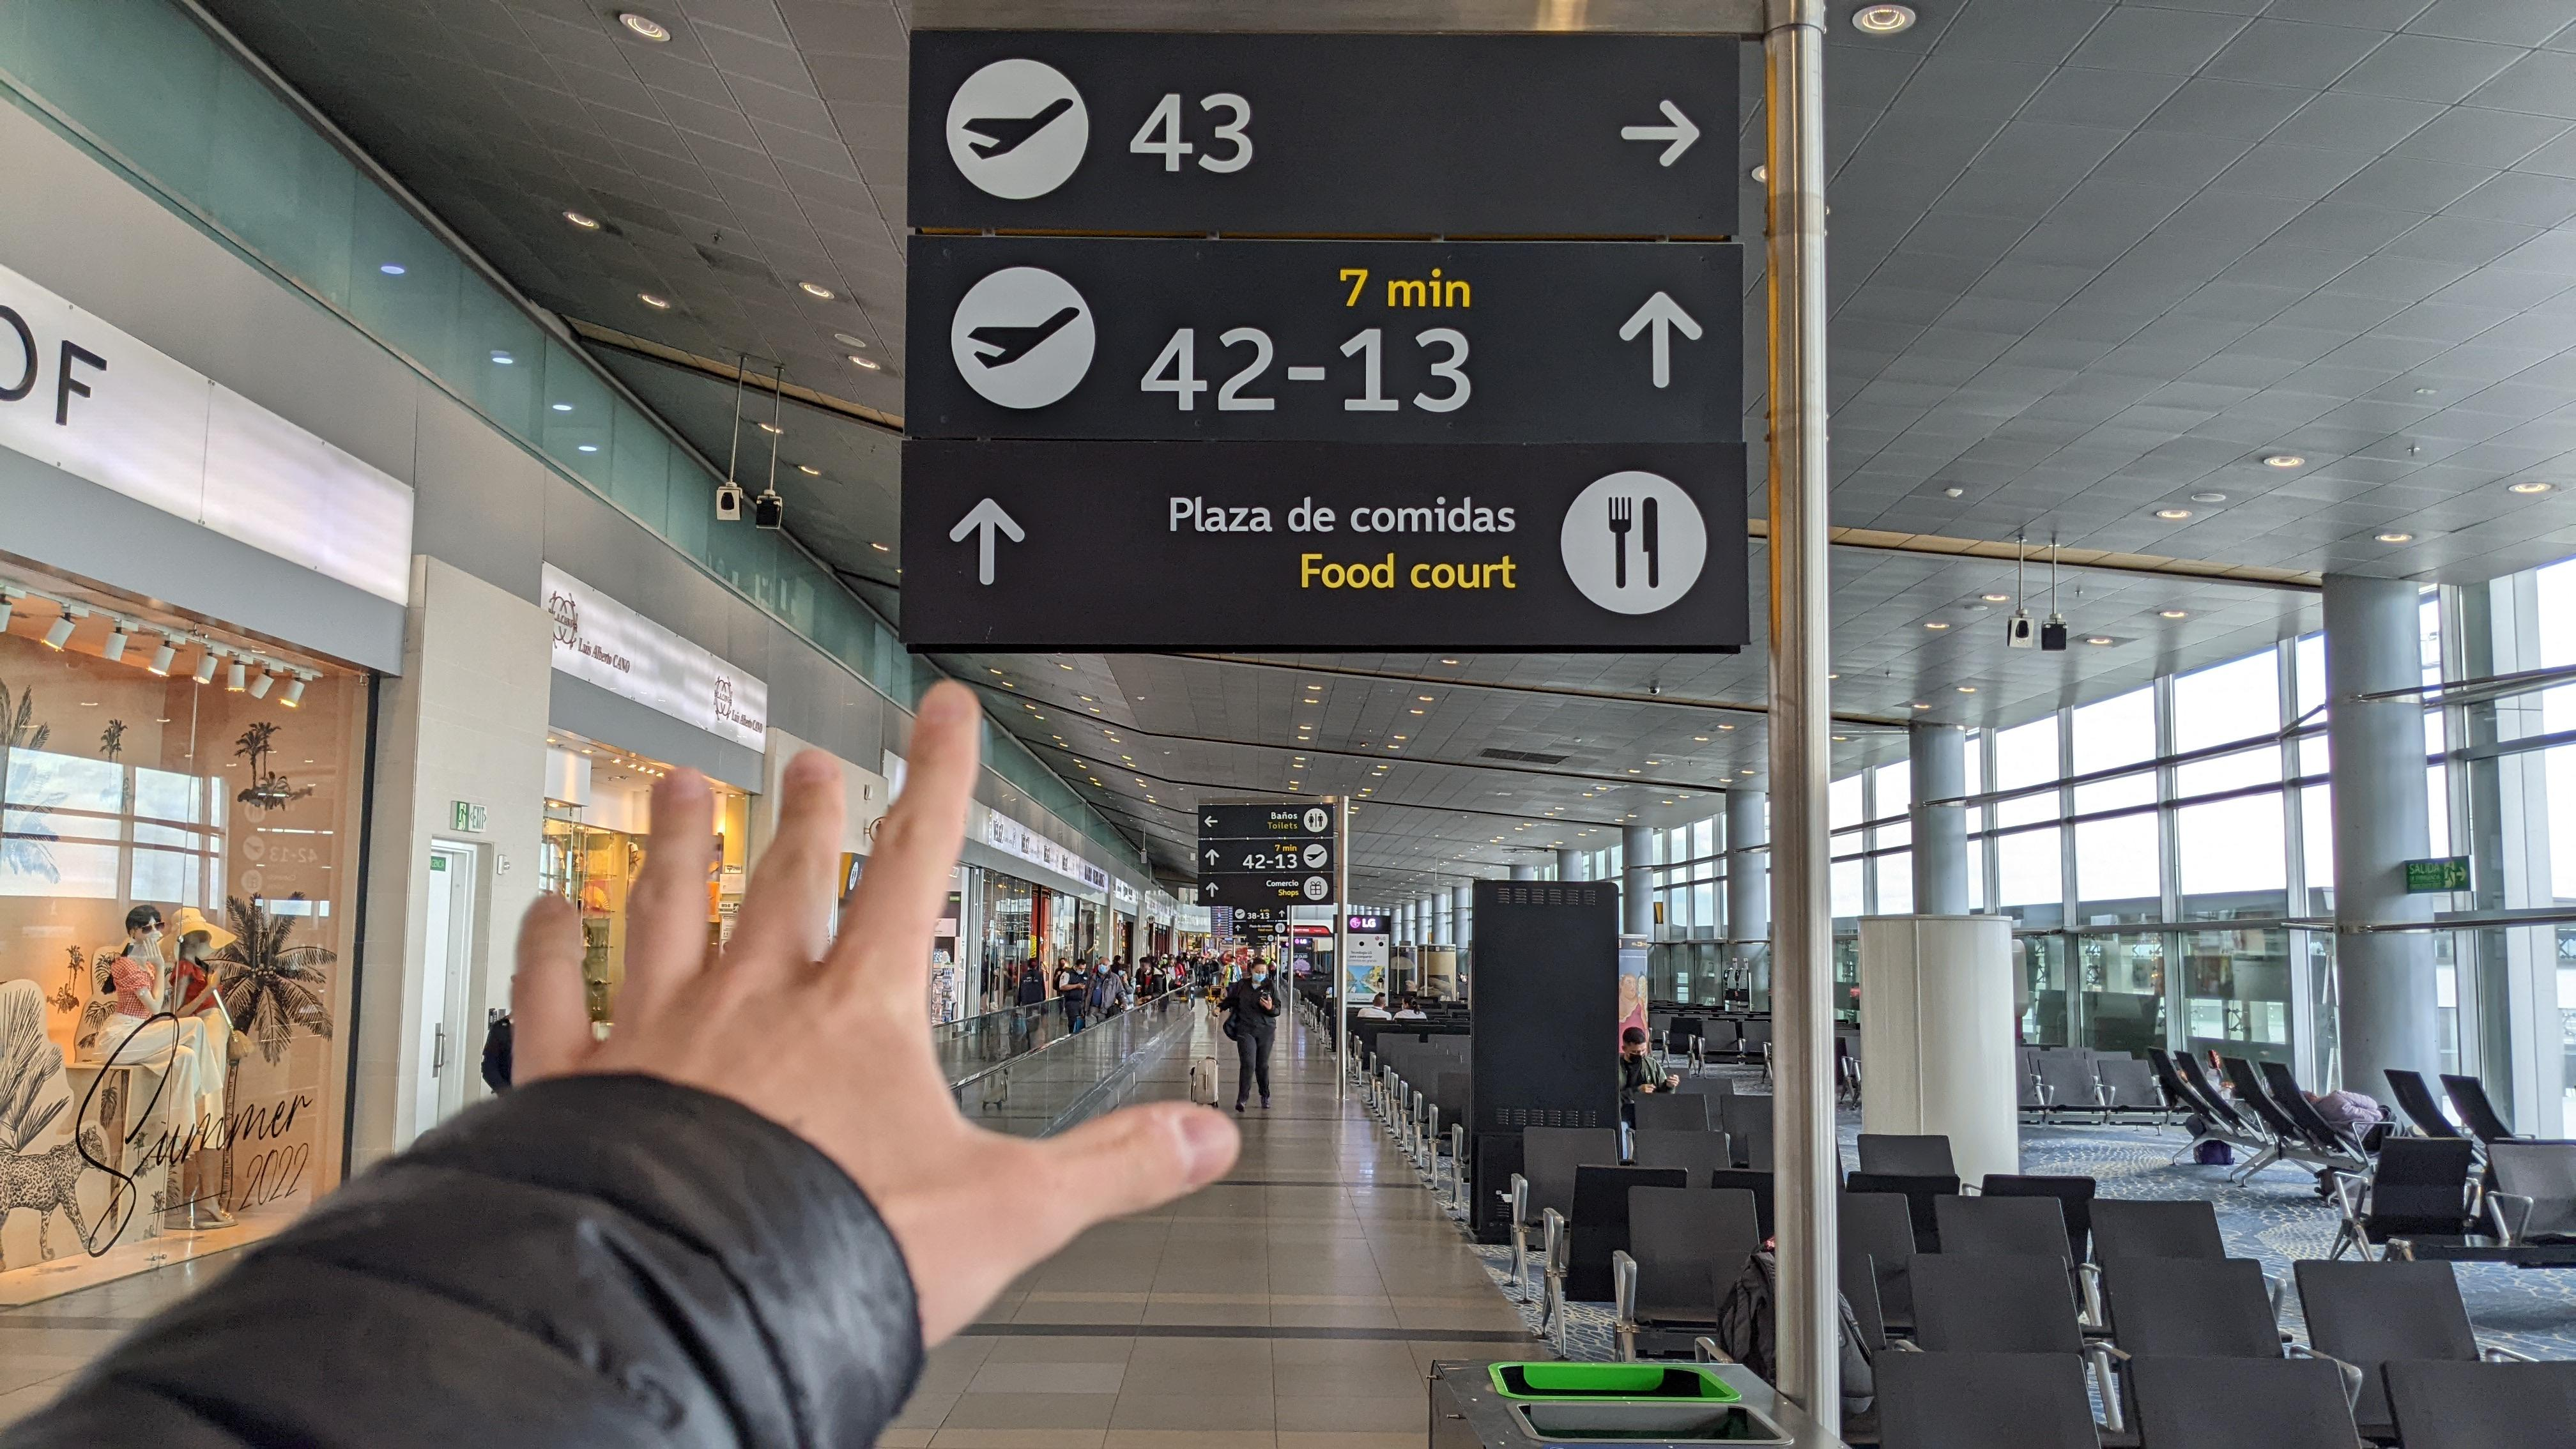airplane symbol: (959, 90, 1077, 163), (968, 301, 1083, 372), (1306, 849, 1325, 862), (1235, 911, 1244, 916)
bathrooms: (1307, 812, 1323, 828)
emergency exit: (2443, 862, 2456, 888), (458, 801, 467, 830)
emergency right arrow: (2456, 867, 2468, 881)
left arrow: (1203, 816, 1219, 828)
restaurants: (1603, 490, 1667, 594), (1277, 924, 1284, 932)
right arrow: (1621, 97, 1704, 168)
up arrow: (1617, 288, 1706, 391), (947, 494, 1030, 587), (1205, 881, 1221, 901), (1205, 849, 1221, 867), (1235, 924, 1240, 932), (1279, 909, 1284, 918)
